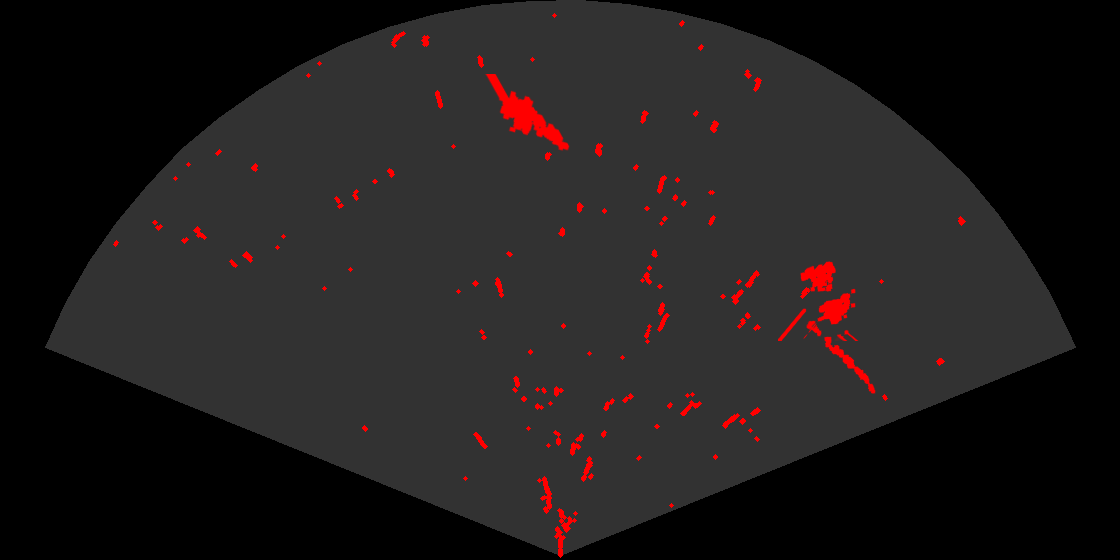cage: (778, 260, 860, 341)
chain: (805, 319, 877, 395)
frogman: (485, 74, 571, 153)
